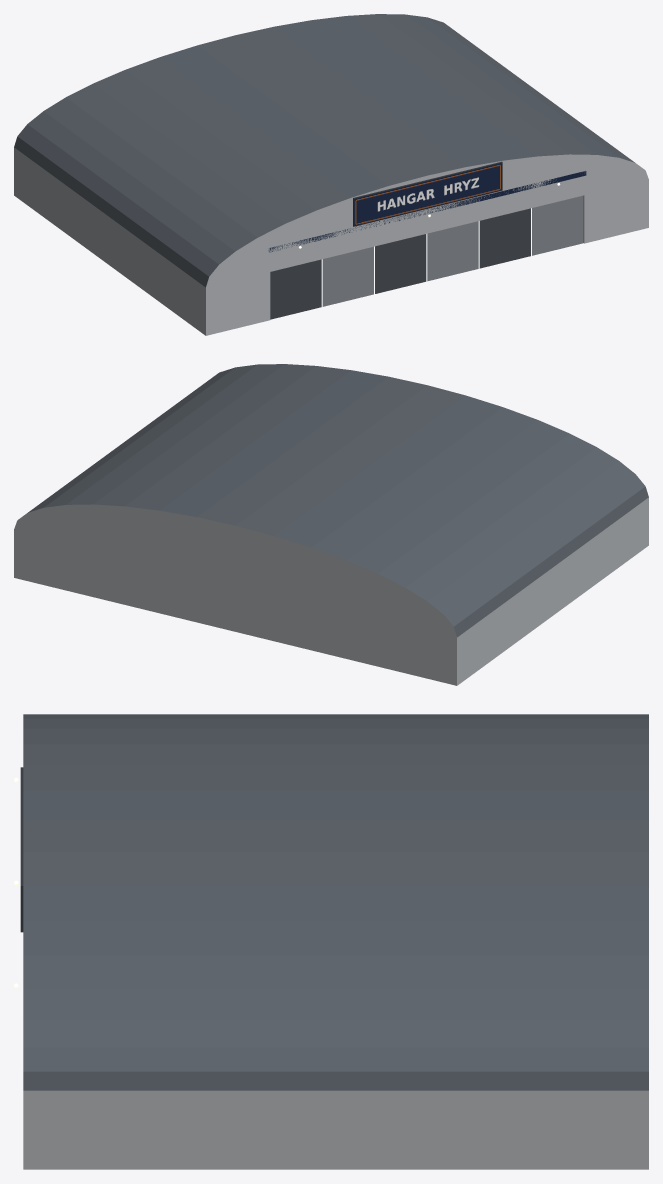
File: hangar.glb
3 views of the same model, one above another, from view 1: azimuth 30°, elevation 25°; view 2: azimuth 150°, elevation 25°; view 3: azimuth 270°, elevation 25° (orthographic). The views are drawn at different scales.
Visible parts, largest first — view 1: Telhado, Paredes, Portas, Letreiro, Detalhes; view 2: Telhado, Paredes; view 3: Telhado, Paredes, Detalhes.
Boxes of the visible parts, x1,y1,x2,y2 form: Telhado: [14, 14, 634, 287]; Paredes: [14, 147, 648, 335]; Portas: [270, 195, 583, 319]; Letreiro: [354, 163, 501, 225]; Detalhes: [268, 161, 586, 252]; Telhado: [28, 364, 648, 637]; Paredes: [14, 497, 648, 685]; Telhado: [23, 714, 648, 1090]; Paredes: [23, 1090, 648, 1169]; Detalhes: [20, 767, 23, 932].
Bounding box in the file's own units: 48 × 11 × 36.53.
8 materials, 1 textured.
